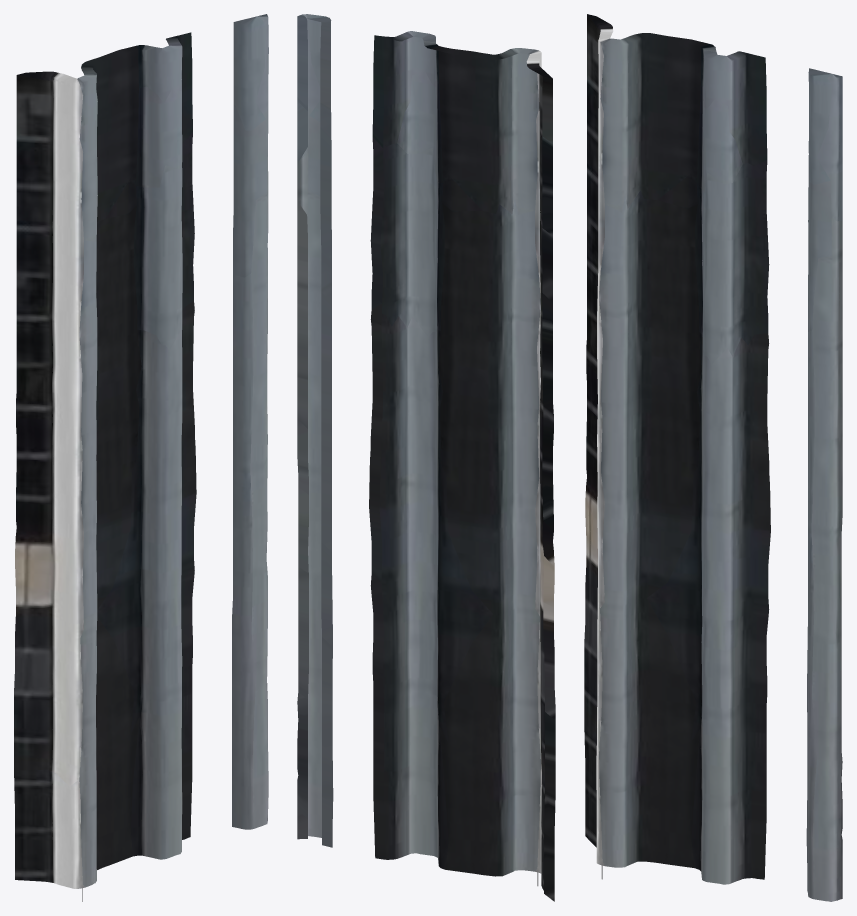
The model's file is z20-167781-405229-h1-yup-uvflip-v3-world.glb.
3 renders of one model, left to right at view 1: azimuth 30°, elevation 25°; view 2: azimuth 150°, elevation 25°; view 3: azimuth 330°, elevation 25°, orthographic. The views are drawn at different scales.
Size of the model in its own units: 11.68 by 36.16 by 2.08.
Materials: 1 (1 with a texture image).
